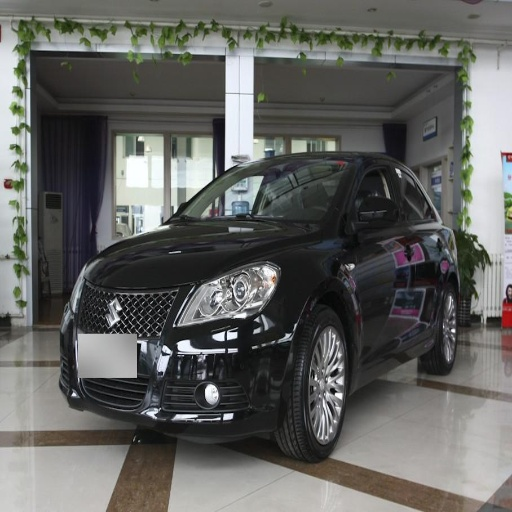front_bumper: (73, 282, 299, 438)
front_glass: (173, 159, 349, 221)
front_left_door: (348, 163, 416, 347)
